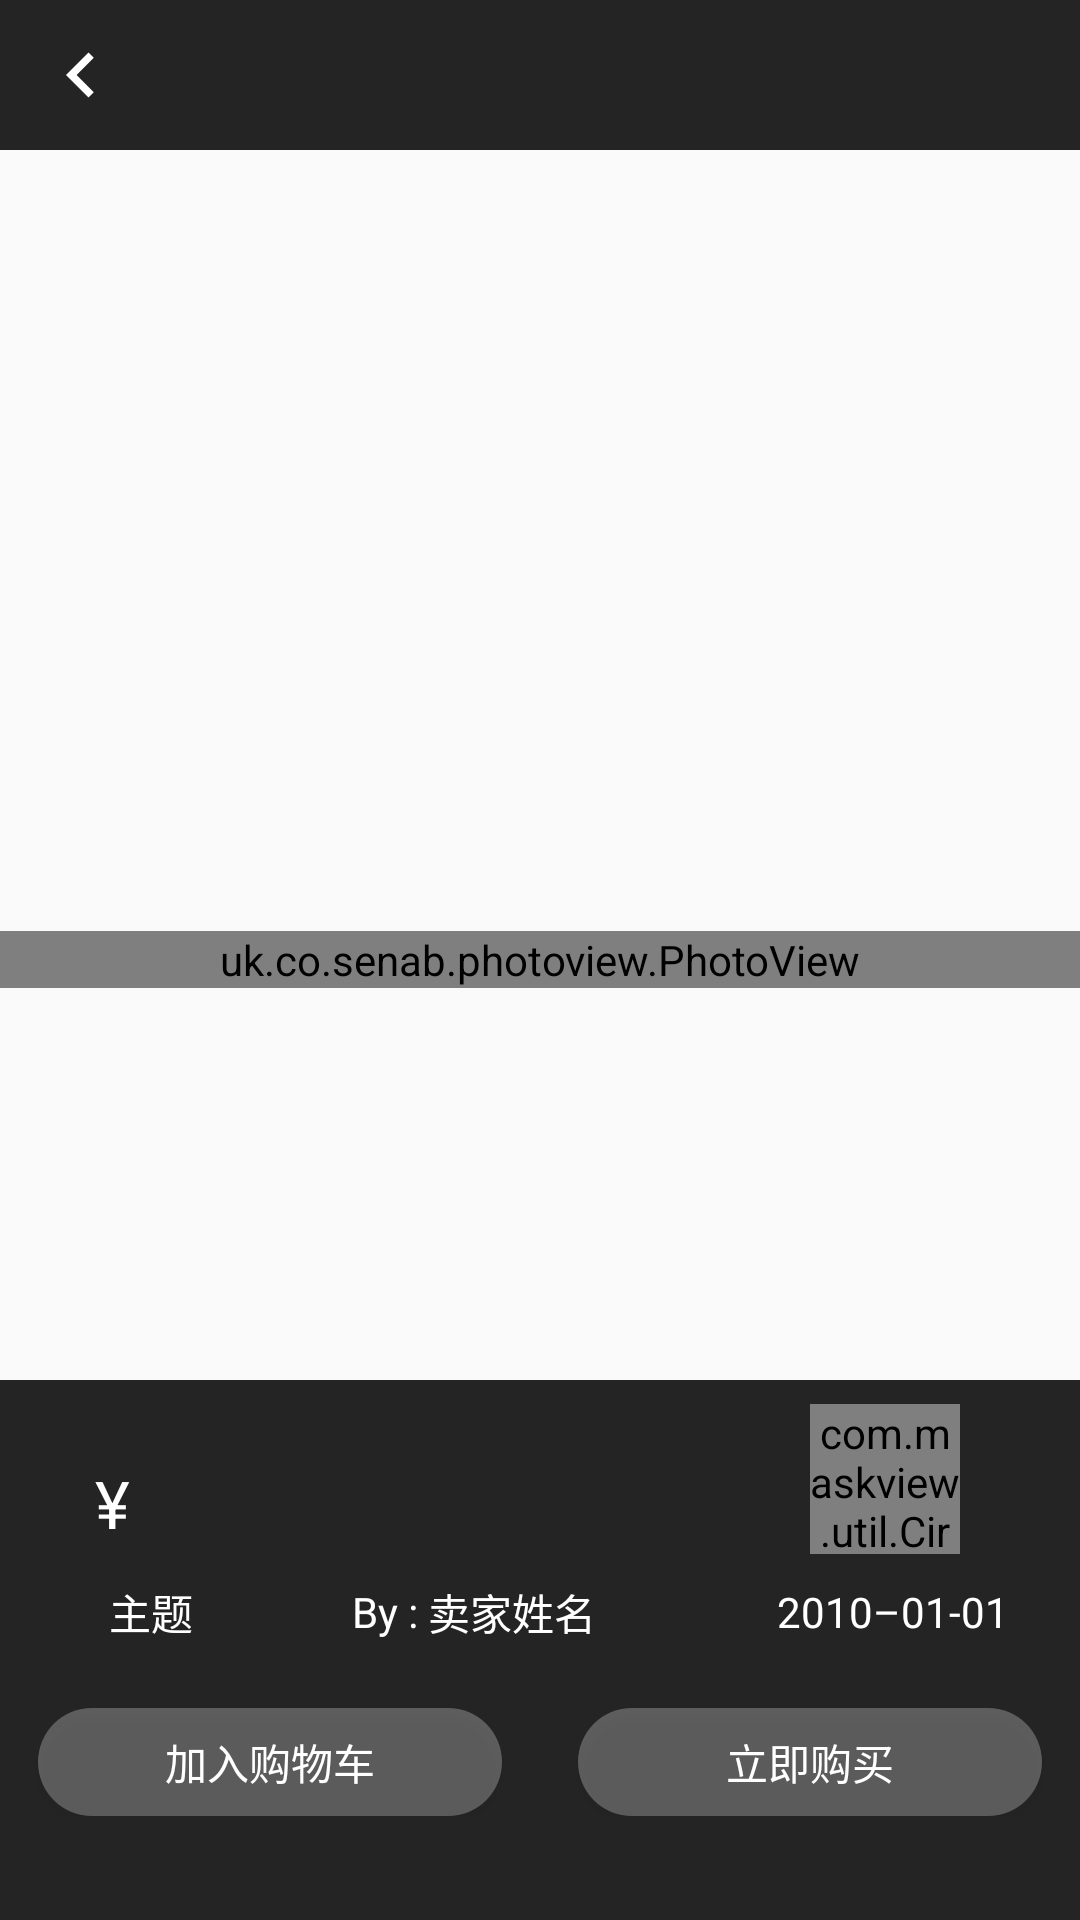

Screen size 1080 × 1920. Icon name, then its box in pixels as (x1, y1, x2, y2):
back: (66, 52, 94, 98)
